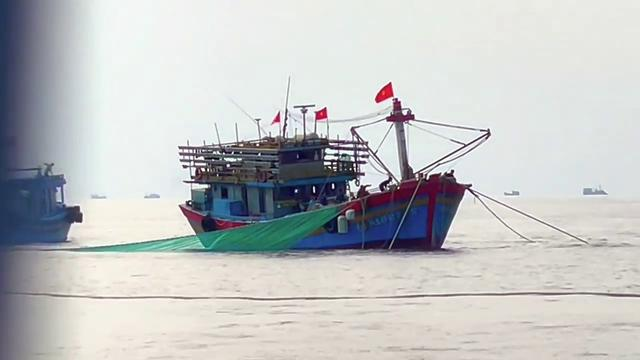Ship: (172, 94, 486, 261), (1, 147, 93, 248)
